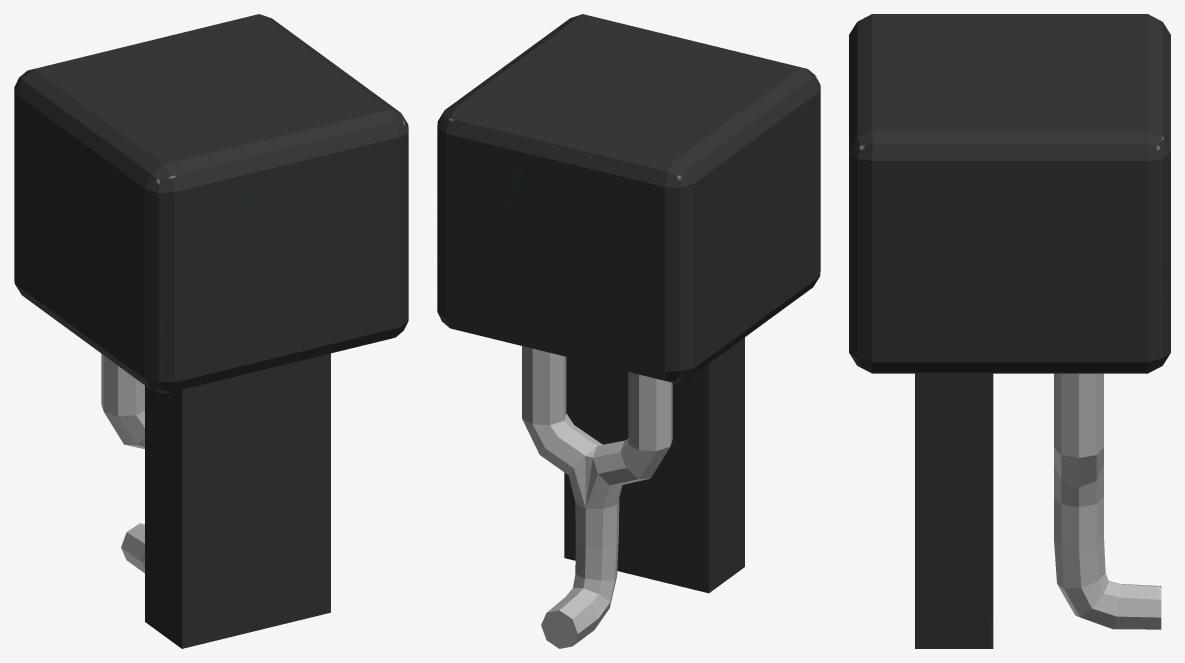
File: Barca_motor.obj
3 renders of one model, left to right at view 1: azimuth 30°, elevation 25°; view 2: azimuth 150°, elevation 25°; view 3: azimuth 270°, elevation 25°, orthographic. The views are drawn at different scales.
Parts seen in each view (by area): view 1: Motor; view 2: Motor; view 3: Motor.
Boxes of the visible parts, x1=… form: Motor: x1=14, y1=14, x2=408, y2=648; Motor: x1=437, y1=14, x2=820, y2=648; Motor: x1=849, y1=14, x2=1170, y2=648.
Bounding box in the file's own units: 3 × 5.73 × 3.
Materials: 2 (2 with a texture image).
